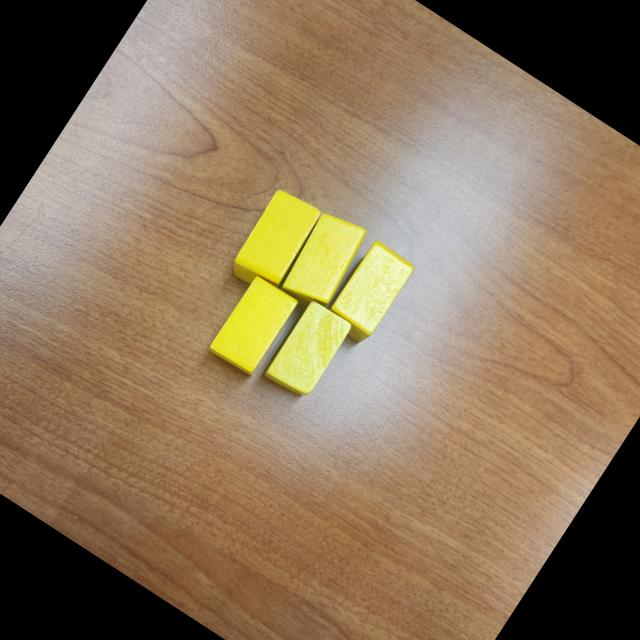yellow: (272, 204, 373, 318), (224, 184, 324, 299), (321, 238, 417, 348), (262, 296, 356, 402), (207, 272, 299, 376)
